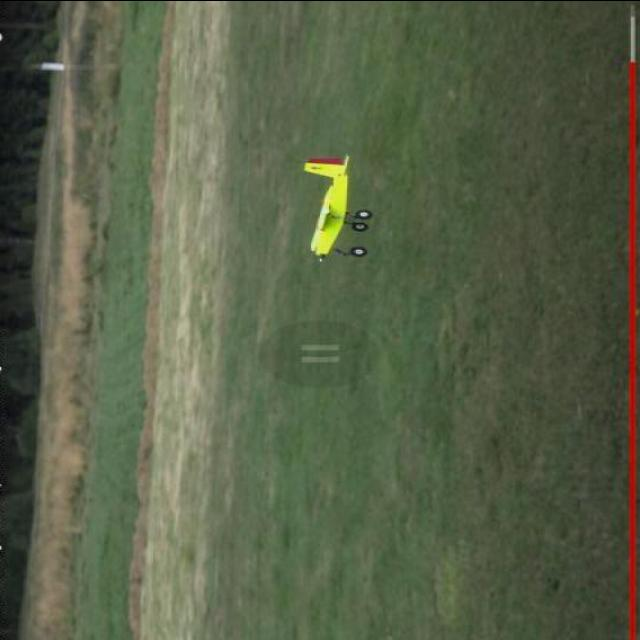plane: (301, 154, 372, 264)
